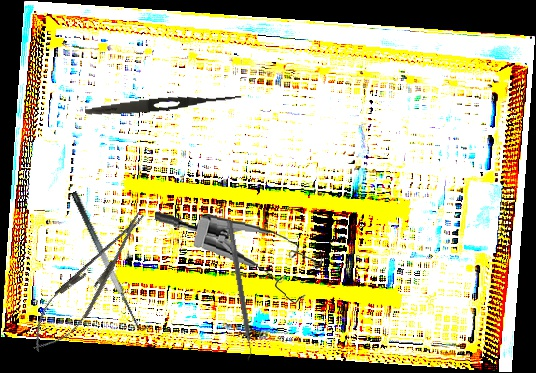Dressing Forceps: (84, 88, 243, 120)
Needle Holder: (19, 201, 159, 363)
Spatula Surgical: (69, 185, 152, 336), (220, 219, 257, 363)
Speculum: (149, 210, 325, 305)
